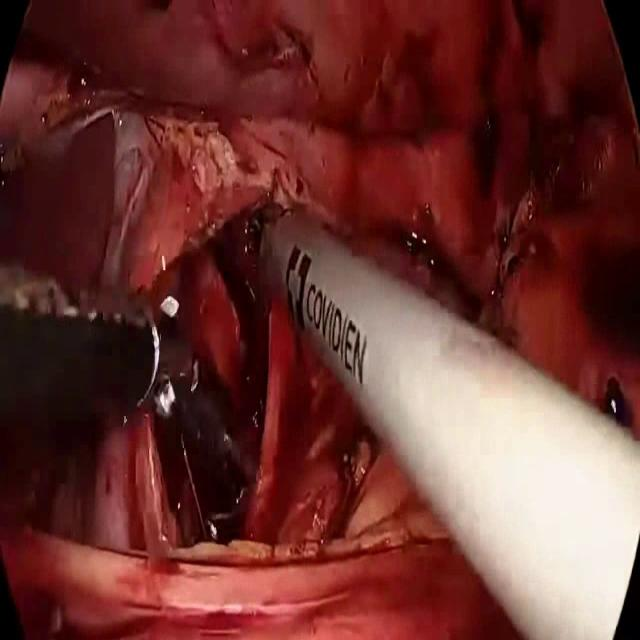surgical-area: (0, 0, 640, 639)
surgical-tool: (222, 203, 640, 639), (0, 302, 200, 420)
